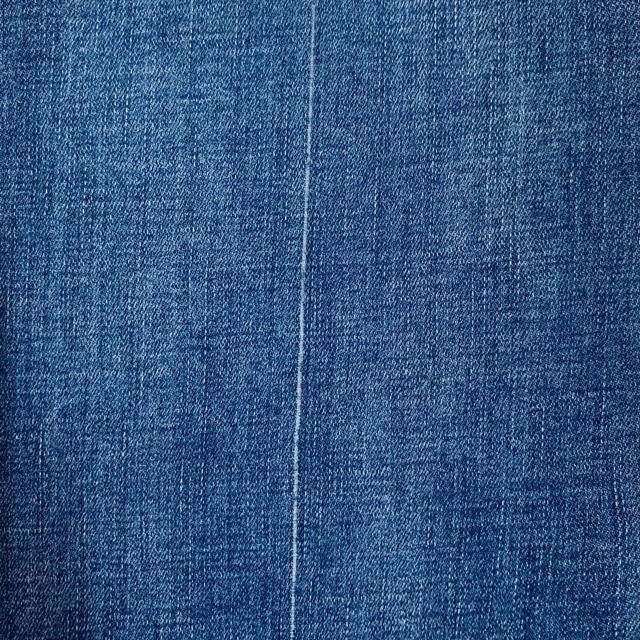Line: (289, 0, 318, 640)
